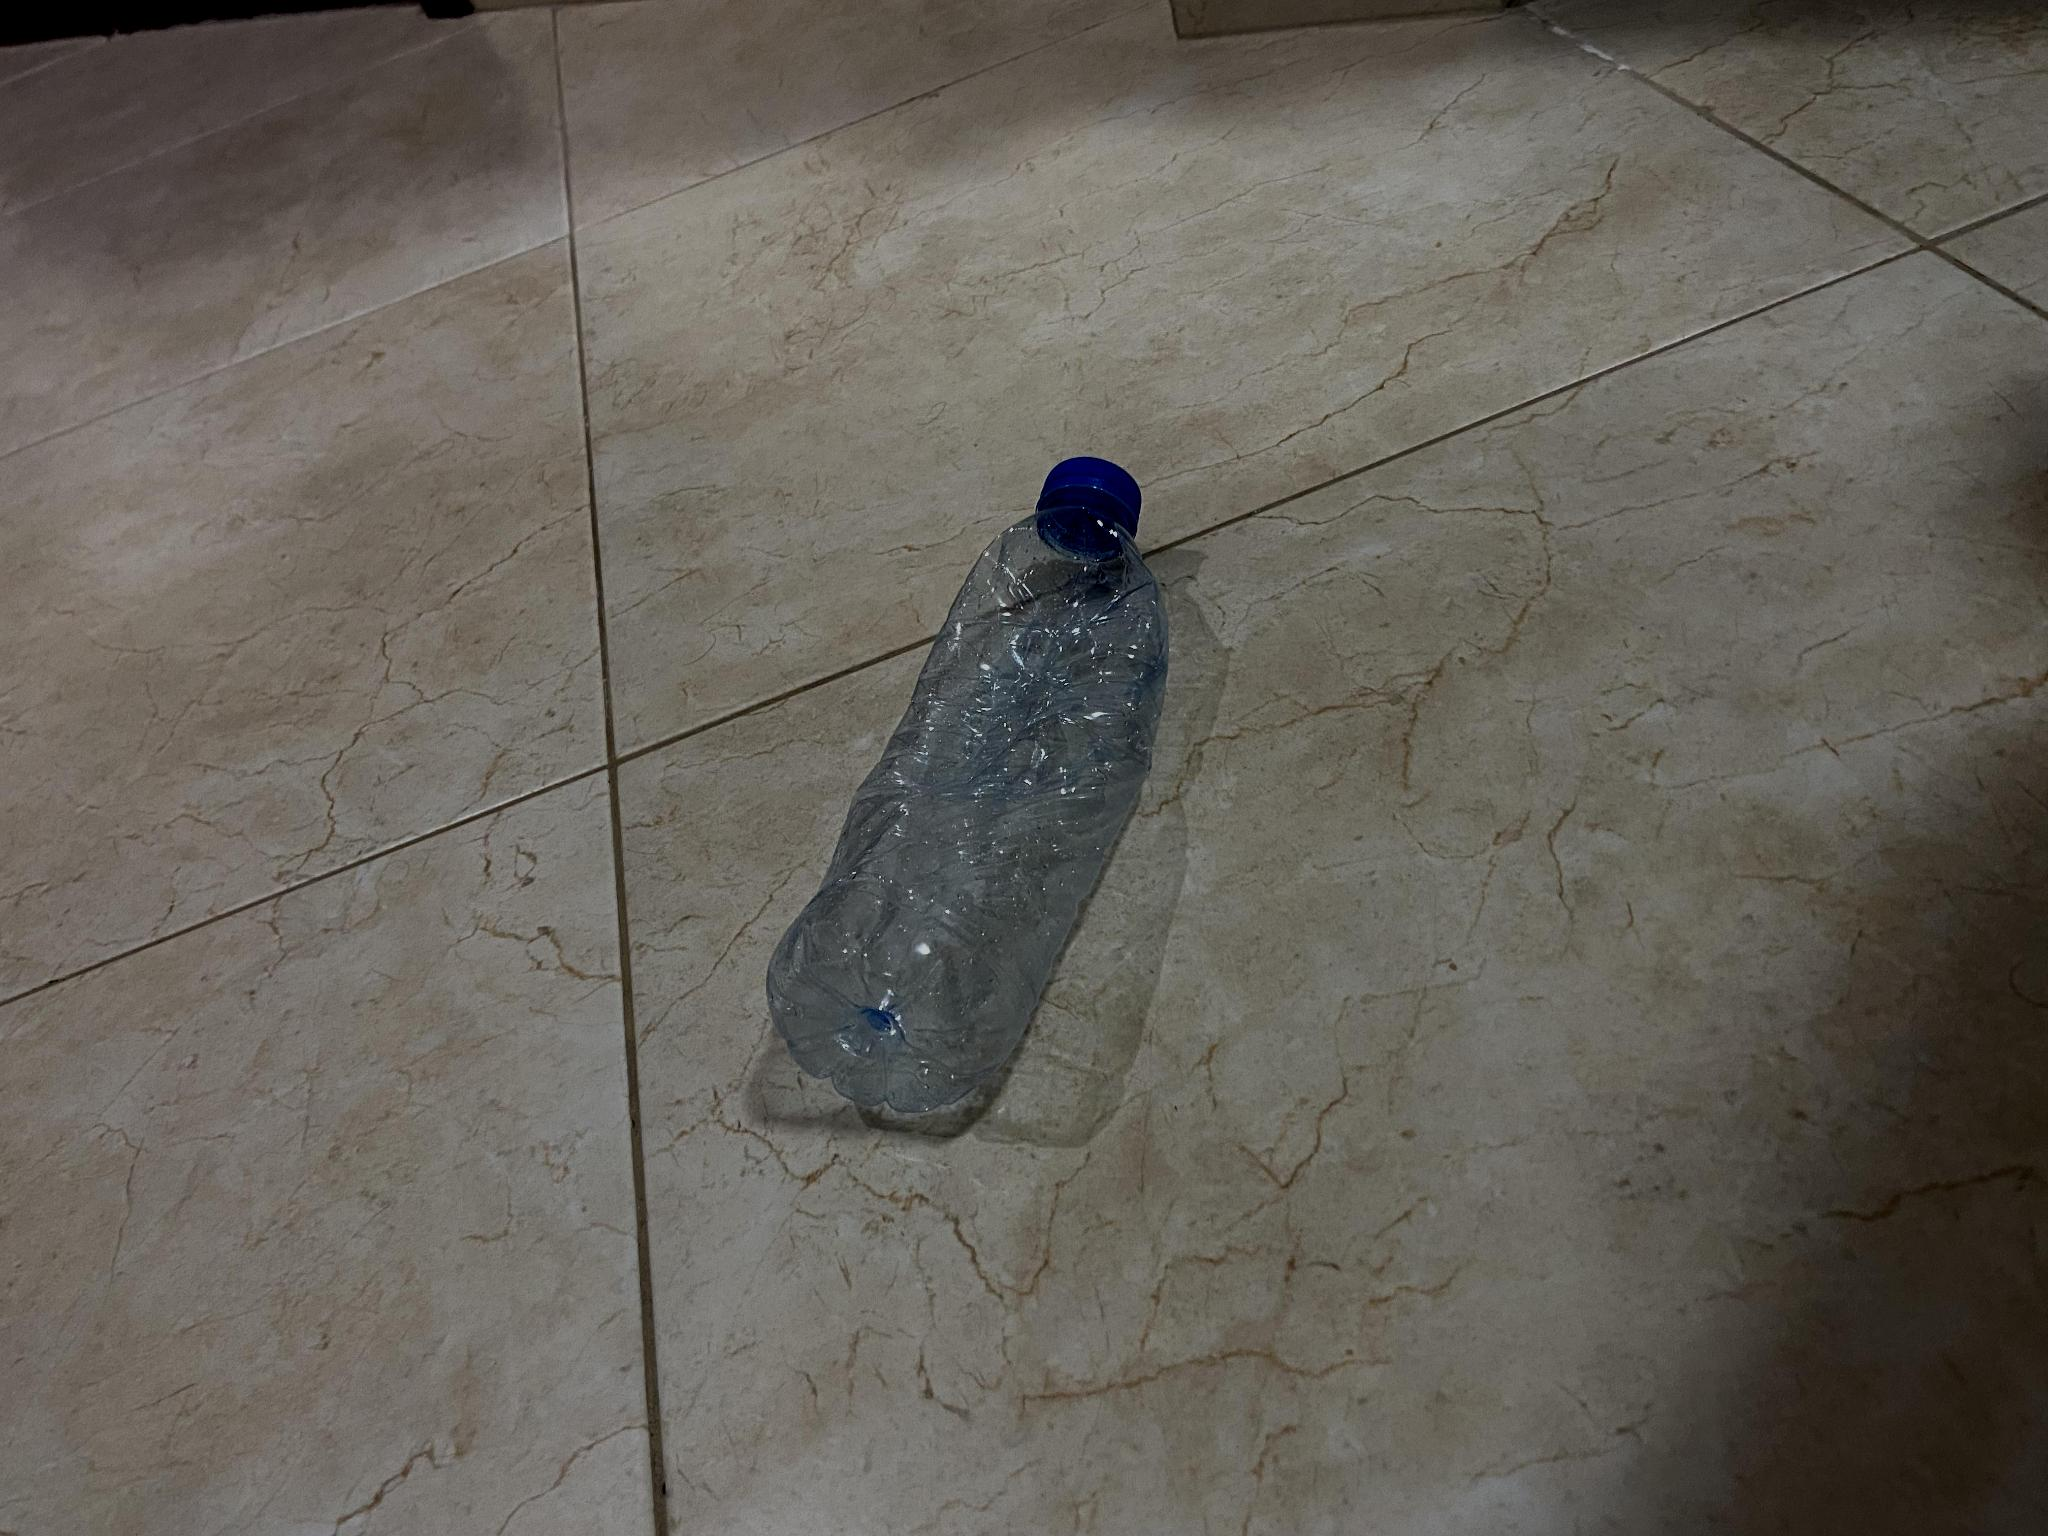bottle: (760, 440, 1190, 1124)
